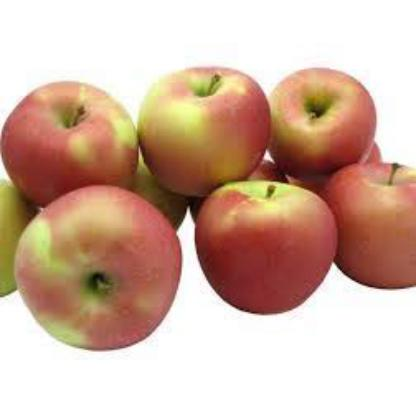apple: (24, 190, 174, 336), (146, 68, 278, 178), (3, 86, 138, 186), (198, 182, 326, 280), (333, 167, 413, 285), (288, 55, 372, 165)
